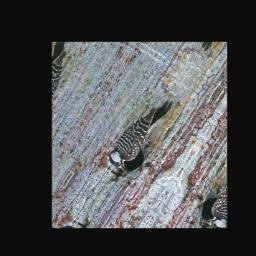Woodpecker: (102, 87, 176, 178)
